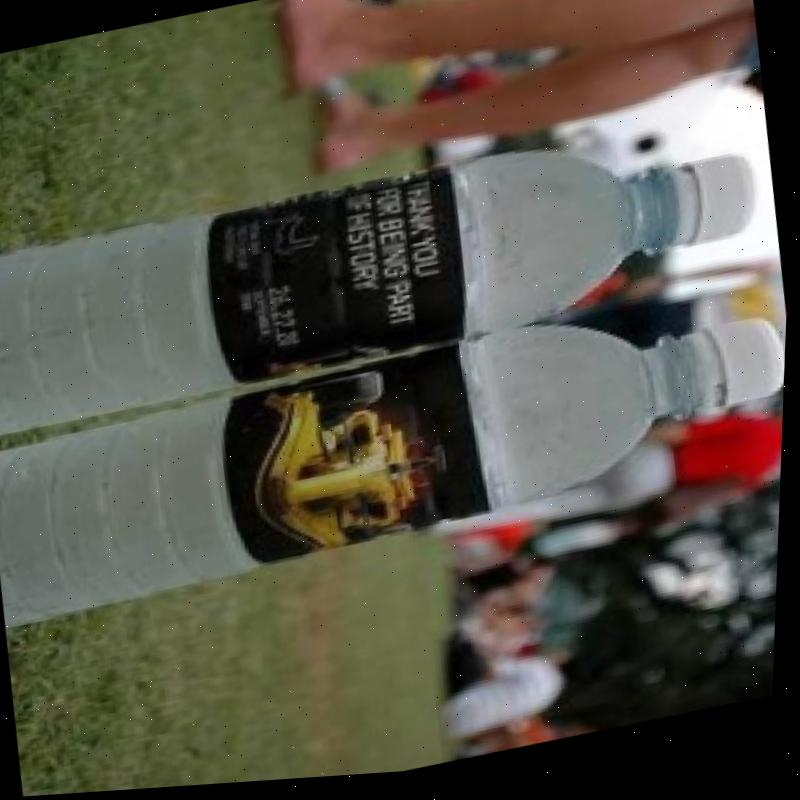botella: (0, 276, 791, 631), (0, 111, 775, 440)
